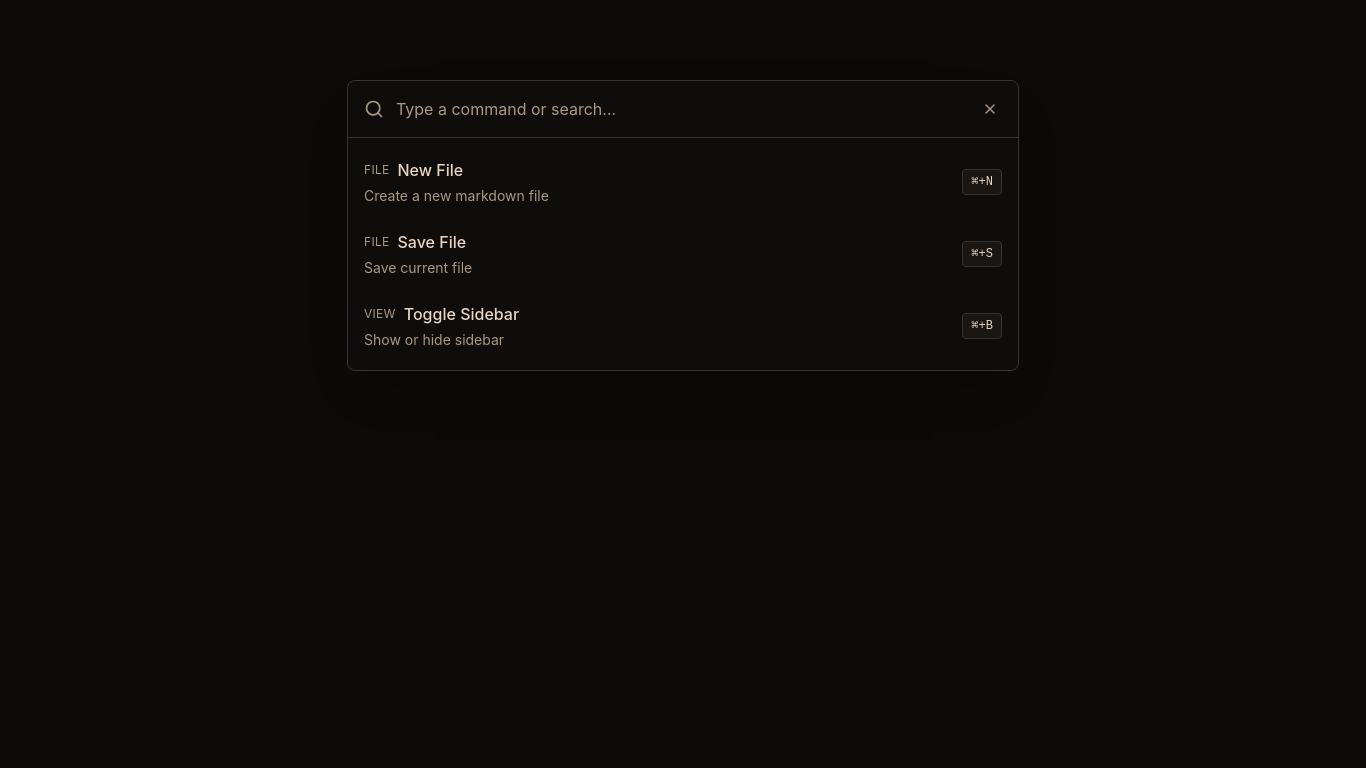
CommandPalette › should filter commands based on search query
This screenshot has width=1366, height=768.
Type "save" into the field with placeholder "Type a command or search..." at {"x": 681, "y": 109}, box x1=396 y1=97 x2=966 y2=121
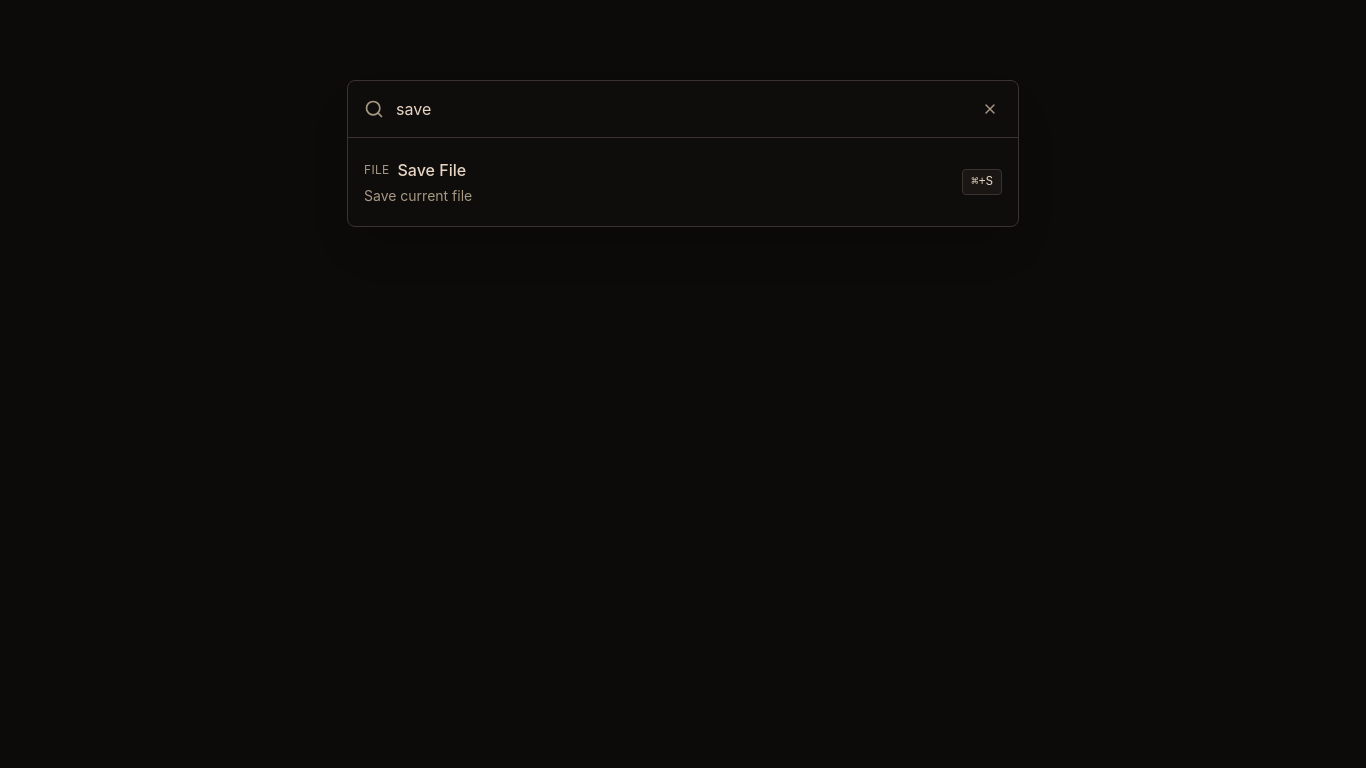
Check: the text "Save File" is shown, box x1=398 y1=158 x2=466 y2=182
Check: the button "New File" is gone
Check: the button "Toggle Sidebar" is gone
